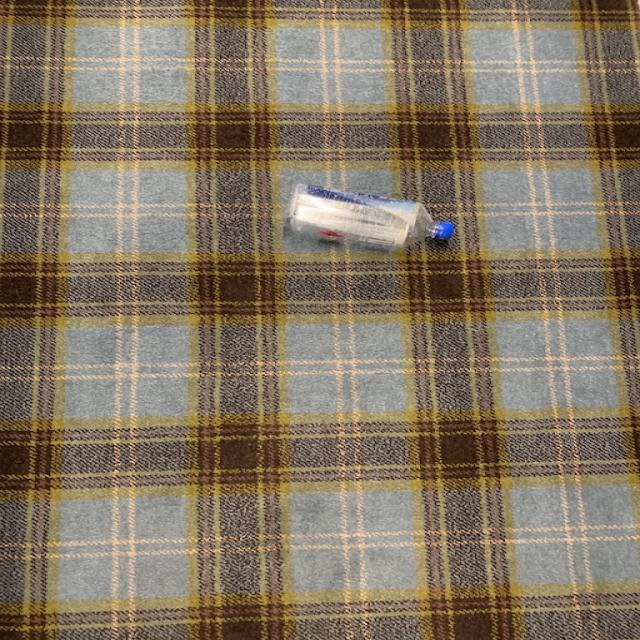litter: (281, 181, 464, 254)
